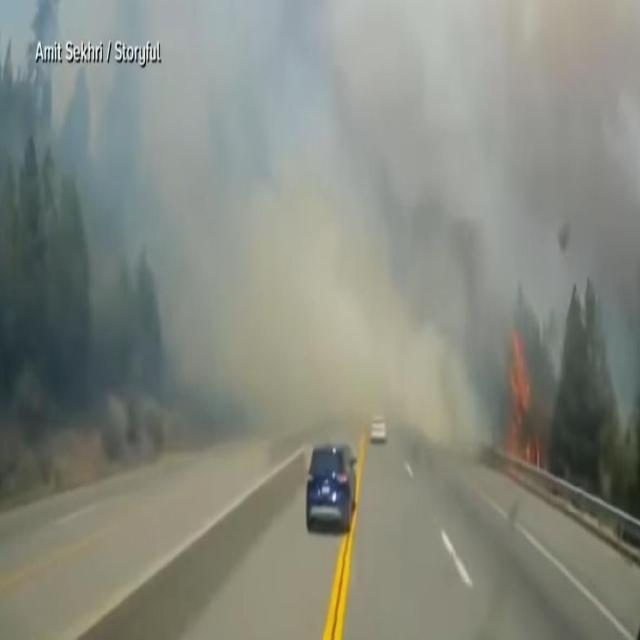Fire: (504, 321, 540, 479)
Smoke: (0, 1, 640, 457)
